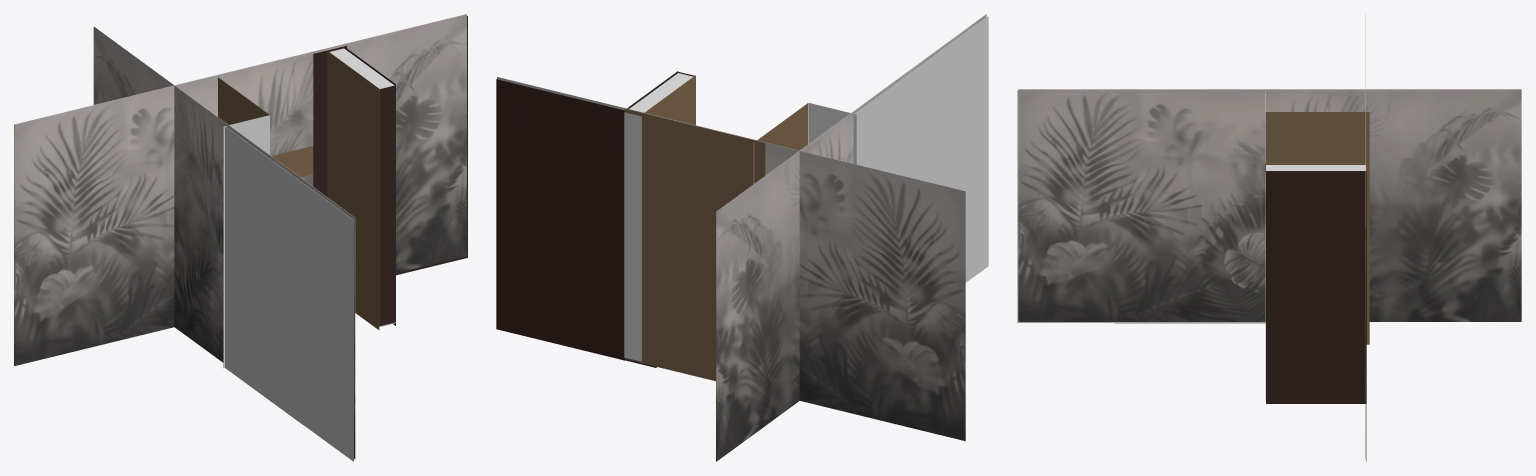
File: VIPANELS_compressed.glb
The picture shows the model from 3 angles, left to right: view 1: azimuth 30°, elevation 25°; view 2: azimuth 150°, elevation 25°; view 3: azimuth 270°, elevation 25°; orthographic projection. The views are drawn at different scales.
Visible parts, largest first — view 1: tryptich.001, vipanel 1500x2550x3.004, tryptich, vipanel 1500x2550x3.002, vipanel 1500x2550x3.013, vipanel 1500x2550x3.014, vipanel 1500x2550x3.016, vipanel 1500x2550x3.005, vipanel 1500x2550x3.001, Niche, vipanel 1500x2550x3.008.1; view 2: tryptich.001, vipanel 1500x2550x3.011, tryptich, vipanel 1500x2550x3.008.1, vipanel 1500x2550x3.002, vipanel 1500x2550x3.010, vipanel 1500x2550x3.004, Niche, vipanel 1500x2550x3.013, vipanel 1500x2550x3.001, vipanel 1500x2550x3.005; view 3: tryptich, vipanel 1500x2550x3.012, vipanel 1500x2550x3.001, Niche, vipanel 1500x2550x3.002.
Boxes of the visible parts, left/top/right/bottom form: tryptich.001: left=14, top=14, right=466, bottom=366; vipanel 1500x2550x3.004: left=225, top=126, right=303, bottom=425; tryptich: left=93, top=26, right=355, bottom=458; vipanel 1500x2550x3.002: left=303, top=183, right=353, bottom=461; vipanel 1500x2550x3.013: left=327, top=51, right=379, bottom=329; vipanel 1500x2550x3.014: left=379, top=85, right=395, bottom=326; vipanel 1500x2550x3.016: left=313, top=46, right=346, bottom=196; vipanel 1500x2550x3.005: left=223, top=115, right=269, bottom=368; vipanel 1500x2550x3.001: left=218, top=77, right=269, bottom=124; Niche: left=330, top=48, right=395, bottom=327; vipanel 1500x2550x3.008.1: left=271, top=146, right=313, bottom=177; tryptich.001: left=497, top=77, right=965, bottom=441; vipanel 1500x2550x3.011: left=531, top=87, right=624, bottom=360; tryptich: left=716, top=14, right=986, bottom=461; vipanel 1500x2550x3.008.1: left=624, top=109, right=765, bottom=380; vipanel 1500x2550x3.002: left=936, top=16, right=988, bottom=282; vipanel 1500x2550x3.010: left=496, top=79, right=530, bottom=337; vipanel 1500x2550x3.004: left=855, top=55, right=936, bottom=183; Niche: left=624, top=73, right=692, bottom=361; vipanel 1500x2550x3.013: left=641, top=75, right=695, bottom=364; vipanel 1500x2550x3.001: left=752, top=103, right=808, bottom=184; vipanel 1500x2550x3.005: left=808, top=103, right=856, bottom=164; tryptich: left=1018, top=89, right=1521, bottom=321; vipanel 1500x2550x3.012: left=1266, top=171, right=1366, bottom=403; vipanel 1500x2550x3.001: left=1266, top=112, right=1369, bottom=344; Niche: left=1265, top=165, right=1365, bottom=400; vipanel 1500x2550x3.002: left=1017, top=90, right=1114, bottom=322.
Bounding box in the file's own units: 5.01 × 2.57 × 5.01.
Materials: 4 (2 with a texture image).
